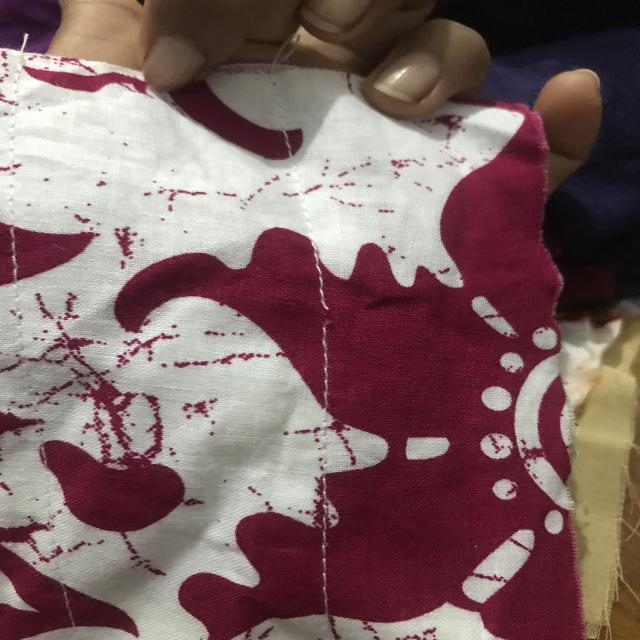broken: (306, 292, 359, 333)
good: (311, 530, 348, 605), (312, 348, 333, 397)
